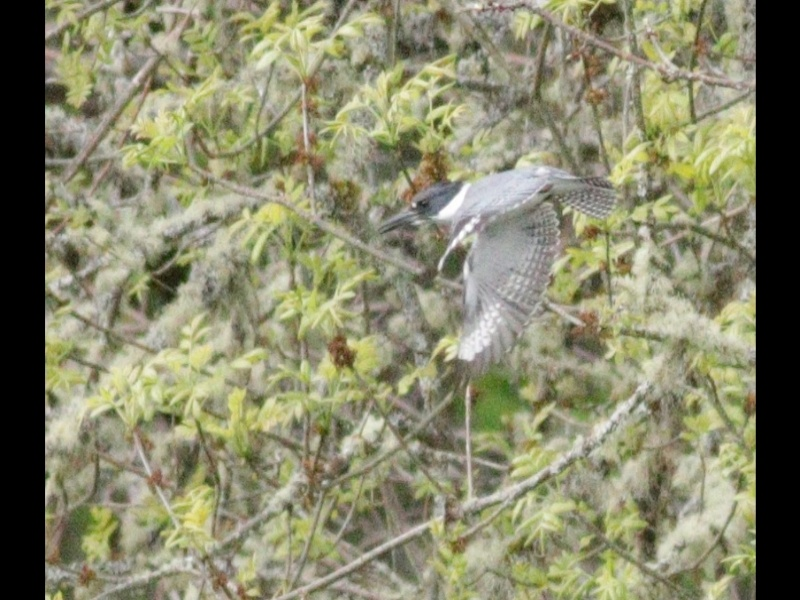kingfisher: (374, 159, 624, 389)
